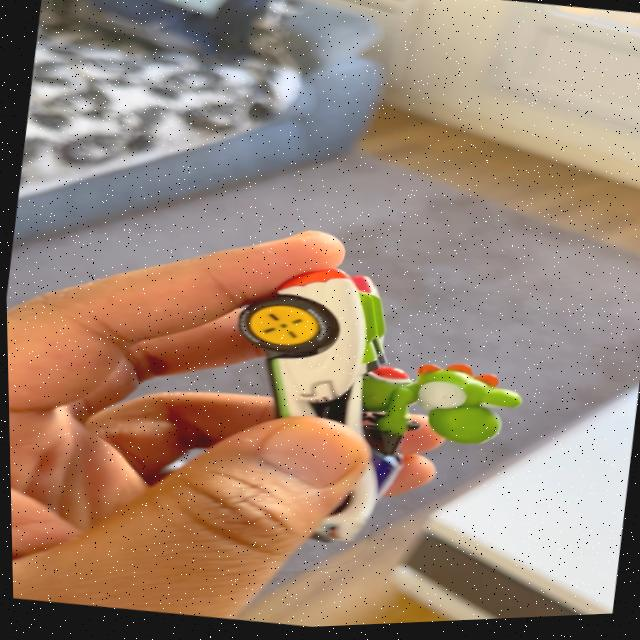yoshi: (205, 246, 565, 598)
